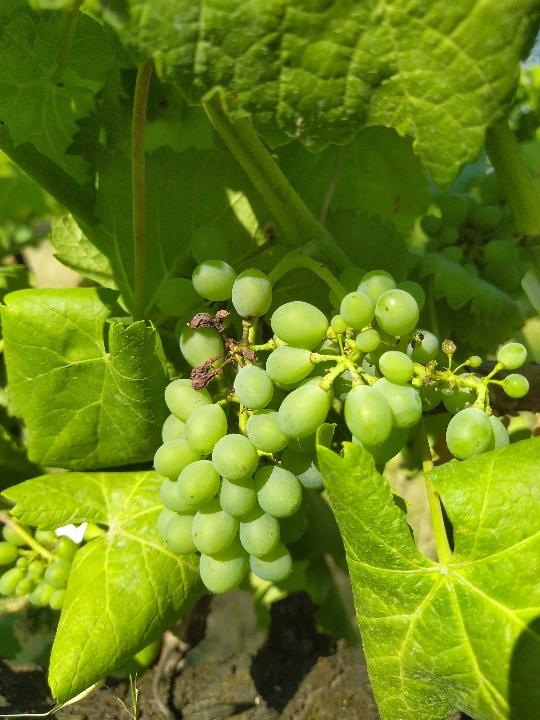grape: (144, 224, 530, 597), (2, 515, 81, 612)
